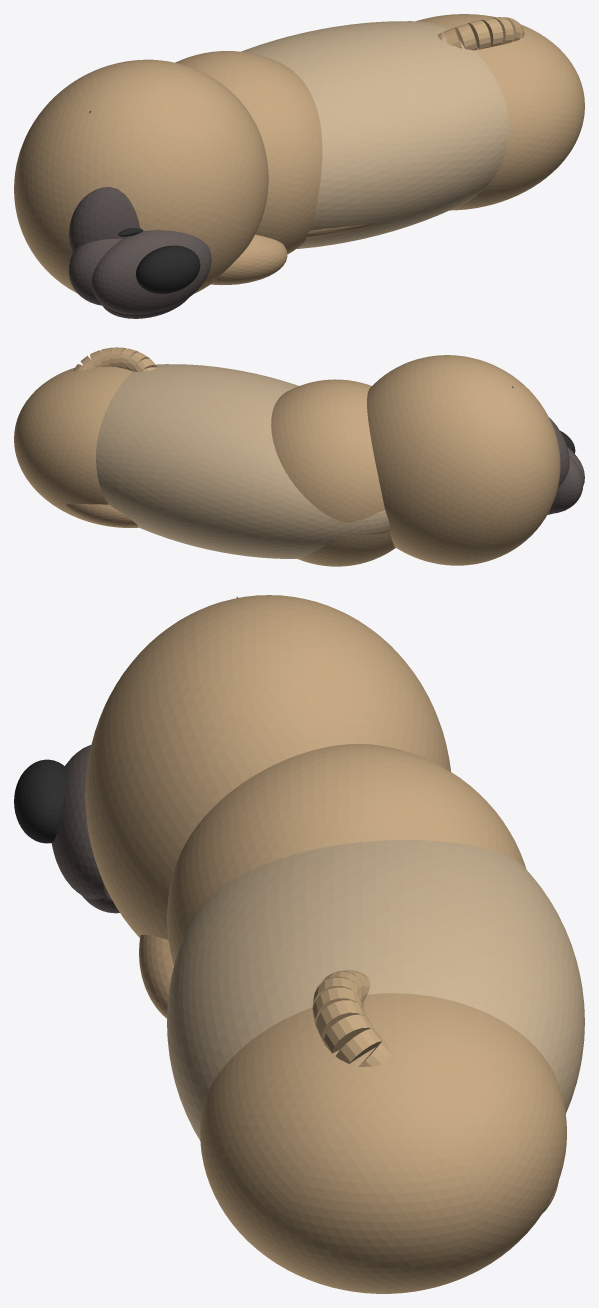
The model's file is sleeping-pug.glb.
3 views of the same model, one above another, from view 1: azimuth 30°, elevation 25°; view 2: azimuth 150°, elevation 25°; view 3: azimuth 270°, elevation 25° (orthographic). The views are drawn at different scales.
Visible parts, largest first — view 1: head, body, rump, chest, muzzle, mask_main, nose, paw_front_l, jowl_left, tail_5, belly_shadow, tail_6; view 2: body, head, chest, rump, paw_rear, jowl_left, mask_main; view 3: rump, body, head, chest, muzzle, nose, paw_front_l, tail_2, tail_3.
Boxes of the visible parts, x1,y1,x2,y2 form: head: [14, 59, 268, 293]; body: [241, 21, 508, 248]; rump: [416, 14, 584, 210]; chest: [175, 51, 322, 254]; muzzle: [91, 230, 211, 314]; mask_main: [69, 187, 139, 253]; nose: [136, 245, 200, 293]; paw_front_l: [211, 234, 287, 285]; jowl_left: [68, 238, 122, 305]; tail_5: [468, 20, 490, 49]; belly_shadow: [306, 223, 374, 238]; tail_6: [455, 23, 477, 50]; body: [96, 364, 389, 558]; head: [367, 355, 560, 565]; chest: [271, 379, 395, 566]; rump: [14, 365, 138, 527]; paw_rear: [64, 504, 138, 527]; jowl_left: [548, 455, 583, 513]; mask_main: [549, 417, 569, 487]; rump: [200, 993, 566, 1293]; body: [167, 840, 584, 1140]; head: [85, 595, 450, 939]; chest: [167, 743, 526, 965]; muzzle: [51, 745, 106, 899]; nose: [14, 759, 66, 843]; paw_front_l: [139, 934, 173, 1018]; tail_2: [323, 1014, 373, 1053]; tail_3: [316, 1000, 368, 1041].
Bounding box in the file's own units: 4.18 × 1.64 × 2.24.
